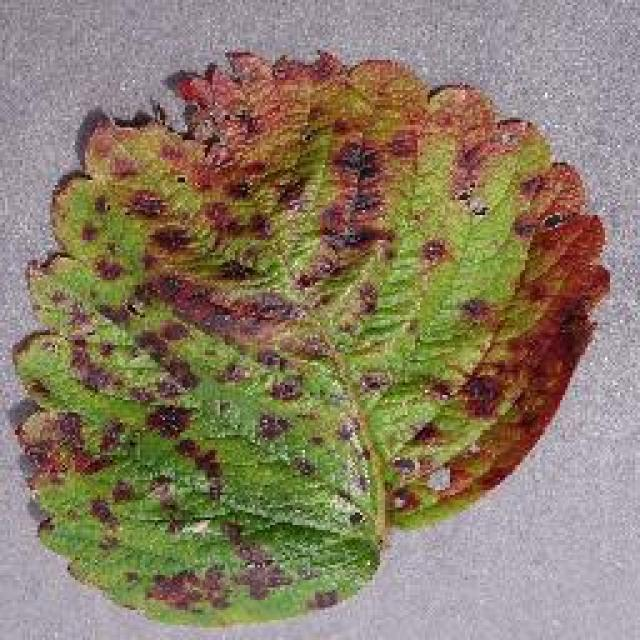Strawberry leaf scorch: (110, 127, 468, 495)
